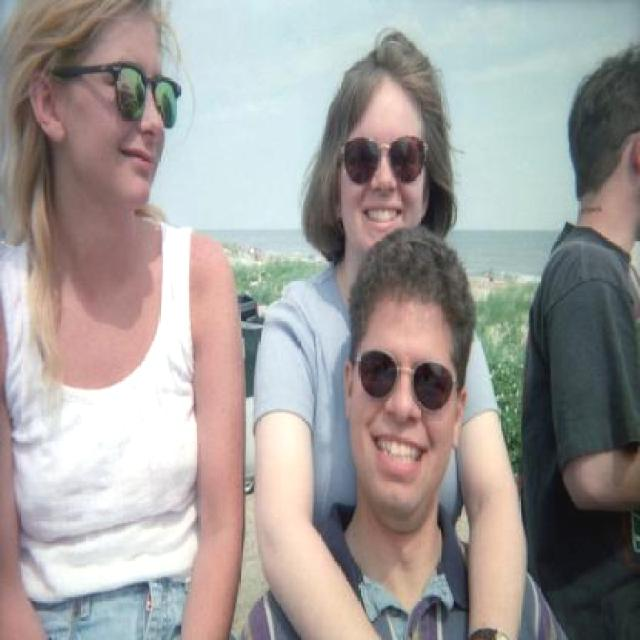face_nomask: (353, 350, 449, 478), (106, 67, 177, 184), (340, 138, 422, 230)
glasses: (356, 346, 453, 414), (338, 133, 428, 190), (109, 60, 182, 128)
head_nohelmet: (344, 250, 478, 335), (324, 34, 448, 124), (5, 0, 172, 55), (572, 40, 640, 128)
person: (245, 34, 529, 640), (0, 0, 237, 640), (240, 244, 554, 640), (535, 40, 640, 640)
